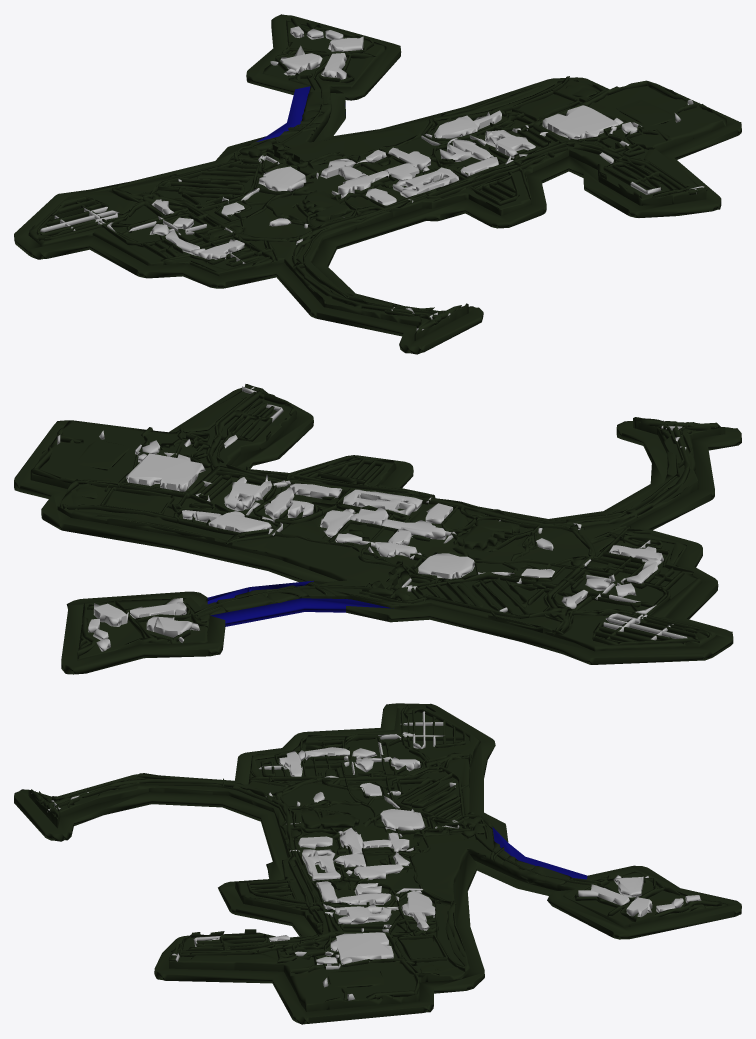
The model's file is ULMAP.fbx.
3 views of the same model, one above another, from view 1: azimuth 30°, elevation 25°; view 2: azimuth 150°, elevation 25°; view 3: azimuth 270°, elevation 25° (orthographic). The views are drawn at different scales.
Visible parts, largest first — view 1: UL_Map2; view 2: UL_Map2; view 3: UL_Map2.
Boxes of the visible parts, x1=… form: UL_Map2: x1=14, y1=14, x2=741, y2=354; UL_Map2: x1=14, y1=384, x2=741, y2=674; UL_Map2: x1=14, y1=703, x2=741, y2=1024.
Size of what is drawn, in the model's own units: 156007 by 152571 by 5408.
